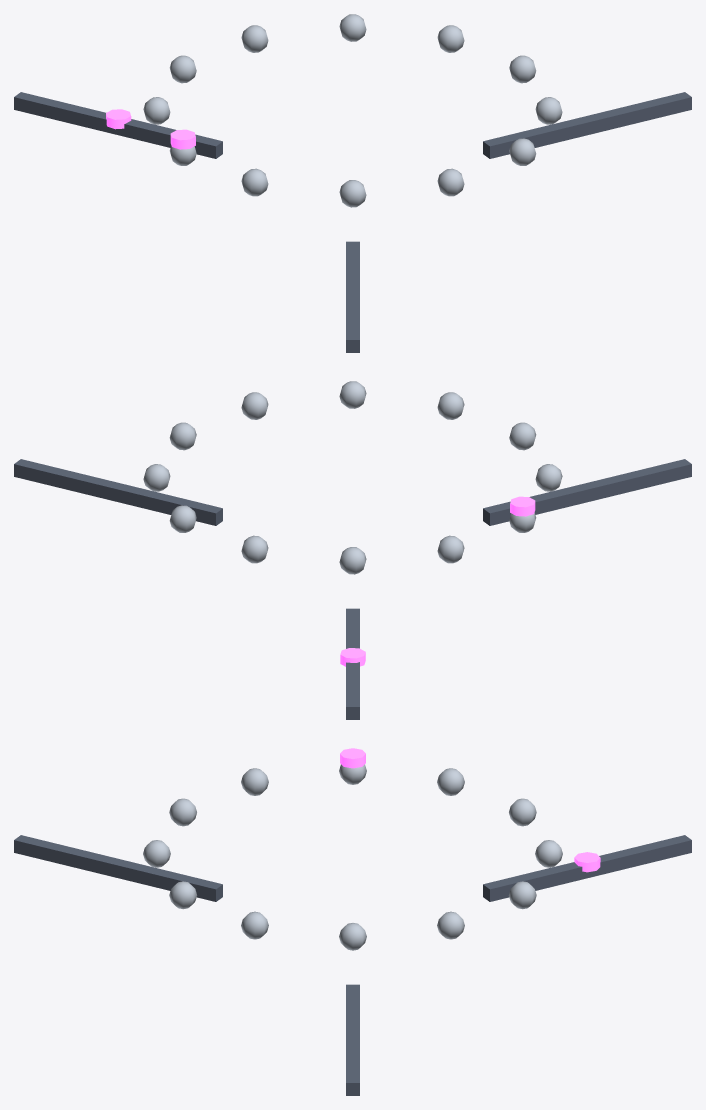
The model's file is tower_arc_range_s3.glb.
The picture shows the model from 3 angles, top to bottom: view 1: azimuth 30°, elevation 25°; view 2: azimuth 150°, elevation 25°; view 3: azimuth 270°, elevation 25°; orthographic projection.
Visible parts, largest first — view 1: arc_guide_arm1, arc_guide_arm0, arc_guide_arm2, arc_relay_knob3, arc_relay_knob5, arc_relay_knob8, arc_relay_knob11, arc_relay_knob1, arc_relay_knob2, arc_relay_knob4, arc_relay_knob6, arc_relay_knob7 (+2 smaller); view 2: arc_guide_arm1, arc_guide_arm2, arc_guide_arm0, arc_relay_knob9, arc_relay_knob4, arc_relay_knob7, arc_relay_knob1, arc_relay_knob2, arc_relay_knob3, arc_relay_knob5, arc_relay_knob6, arc_relay_knob8 (+2 smaller); view 3: arc_guide_arm2, arc_guide_arm0, arc_guide_arm1, arc_relay_knob5, arc_relay_knob7, arc_relay_knob6, arc_relay_knob2, arc_relay_knob10, arc_relay_knob4, arc_relay_knob8, arc_relay_knob3, arc_relay_knob9 (+2 smaller).
Part boxes in pixels (bbox=[...]): arc_guide_arm1: bbox=[483, 92, 691, 158]; arc_guide_arm0: bbox=[14, 92, 222, 158]; arc_guide_arm2: bbox=[346, 241, 359, 352]; arc_relay_knob3: bbox=[241, 25, 268, 52]; arc_relay_knob5: bbox=[437, 25, 464, 52]; arc_relay_knob8: bbox=[509, 138, 536, 165]; arc_relay_knob11: bbox=[241, 168, 268, 196]; arc_relay_knob1: bbox=[143, 97, 170, 124]; arc_relay_knob2: bbox=[169, 55, 196, 83]; arc_relay_knob4: bbox=[339, 14, 366, 41]; arc_relay_knob6: bbox=[509, 55, 536, 83]; arc_relay_knob7: bbox=[535, 97, 562, 124]; arc_guide_arm1: bbox=[14, 459, 222, 525]; arc_guide_arm2: bbox=[483, 459, 691, 525]; arc_guide_arm0: bbox=[346, 608, 359, 719]; arc_relay_knob9: bbox=[437, 392, 464, 419]; arc_relay_knob4: bbox=[169, 505, 196, 532]; arc_relay_knob7: bbox=[241, 392, 268, 419]; arc_relay_knob1: bbox=[437, 535, 464, 563]; arc_relay_knob2: bbox=[339, 547, 366, 574]; arc_relay_knob3: bbox=[241, 535, 268, 563]; arc_relay_knob5: bbox=[143, 464, 170, 491]; arc_relay_knob6: bbox=[169, 422, 196, 450]; arc_relay_knob8: bbox=[339, 381, 366, 408]; arc_guide_arm2: bbox=[14, 835, 222, 901]; arc_guide_arm0: bbox=[483, 835, 691, 901]; arc_guide_arm1: bbox=[346, 984, 359, 1095]; arc_relay_knob5: bbox=[437, 911, 464, 939]; arc_relay_knob7: bbox=[241, 911, 268, 939]; arc_relay_knob6: bbox=[339, 923, 366, 950]; arc_relay_knob2: bbox=[509, 798, 536, 826]; arc_relay_knob10: bbox=[169, 798, 196, 826]; arc_relay_knob4: bbox=[508, 881, 536, 909]; arc_relay_knob8: bbox=[169, 881, 197, 909]; arc_relay_knob3: bbox=[535, 840, 562, 867]; arc_relay_knob9: bbox=[143, 840, 170, 867].
Size of the model in its own units: 1.28 by 0.226 by 1.45.
